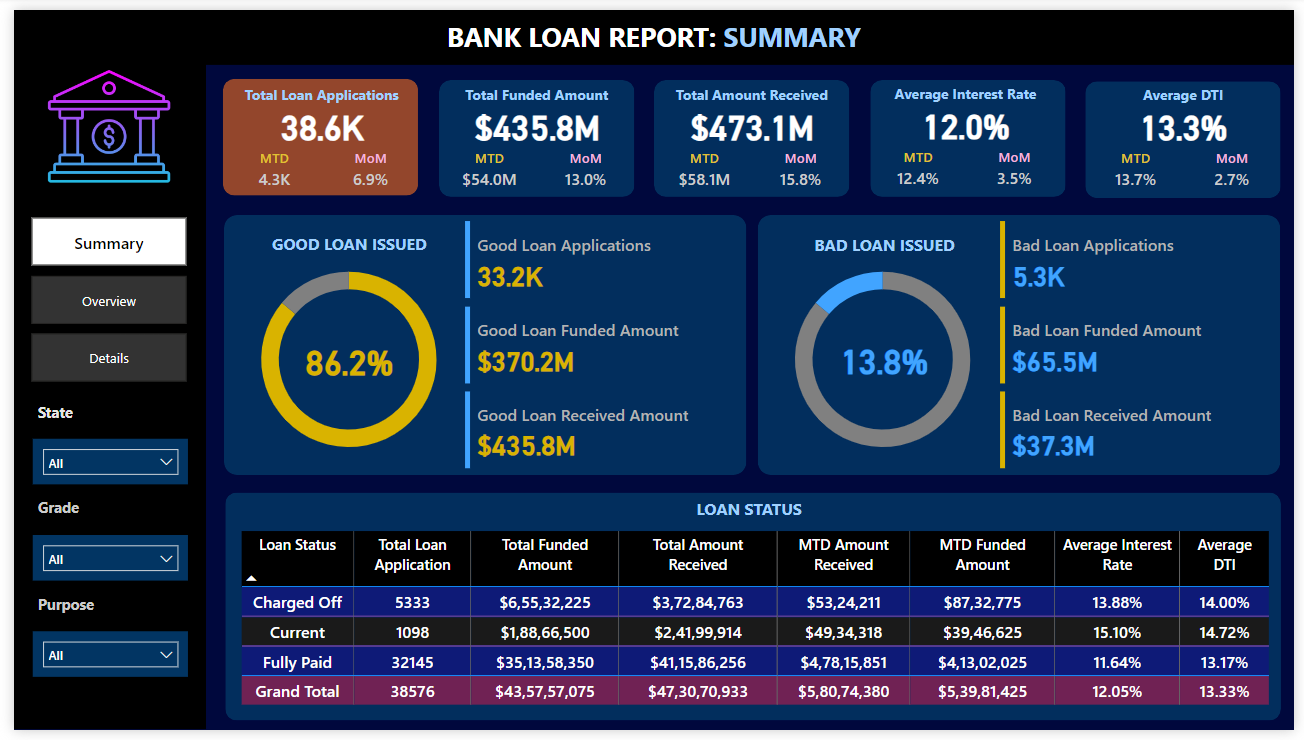

The page's visual inventory and layout, read from the dashboard file:
{"tool":"powerbi","page":{"name":"Summary","canvas":[1280,720],"ordinal":0},"visuals":[{"type":"shape","box":[0,54.2,192.2,665.4],"z":0},{"type":"shape","box":[640.1,70.1,195.6,117],"z":1000},{"type":"shape","box":[1071.3,71.1,195.6,117],"z":2000},{"type":"shape","box":[855.7,70.6,195.6,117],"z":3000},{"type":"shape","box":[424.5,69.7,195.6,117],"z":4000},{"type":"shape","box":[208.9,69.2,195.6,117],"z":5000},{"type":"shape","box":[0,0,1280.3,54.9],"z":6000},{"type":"textbox","box":[404.8,4.1,469.3,45.3],"z":7000},{"type":"shape","box":[209.5,204.5,522.5,260],"z":8000},{"type":"shape","box":[744.2,204.5,522.5,260],"z":9000},{"type":"group","id":"g1","title":"Group 1","box":[425.1,70.2,194.7,117.1],"z":10000},{"type":"group","id":"g2","title":"Group 1","box":[639.5,70.2,195.9,117.1],"z":11000},{"type":"group","id":"g3","title":"Group 1","box":[853.9,69,195.9,117.1],"z":12000},{"type":"group","id":"g4","title":"Group 1","box":[1070.8,70.2,195.9,117.1],"z":13000},{"type":"group","id":"g5","title":"Group 1","box":[209.5,70.2,194.7,117.1],"z":14000},{"type":"card","title":"Total Loan Applications","fields":{"Values":["financial_loan.avg_interest_rate"]},"box":[855.1,94.5,194.3,41.3],"z":15000,"group":"g3"},{"type":"card","title":"Total Loan Applications","fields":{"Values":["financial_loan.total_loan_application"]},"box":[210.7,95.7,194.3,41.3],"z":15000,"group":"g5"},{"type":"card","title":"Total Loan Applications","fields":{"Values":["financial_loan.total_funded_amount"]},"box":[426.3,95.7,194.3,41.3],"z":15000,"group":"g1"},{"type":"card","title":"Total Loan Applications","fields":{"Values":["financial_loan.total_amount_received"]},"box":[640.7,95.7,194.3,41.3],"z":15000,"group":"g2"},{"type":"card","title":"Total Loan Applications","fields":{"Values":["financial_loan.avg_dti"]},"box":[1072,95.7,194.3,41.3],"z":15000,"group":"g4"},{"type":"donutChart","fields":{"Category":["financial_loan.Good vs Bad Loan"],"Y":["financial_loan.total_loan_application"]},"box":[209.5,235.3,250.1,229.2],"z":15000},{"type":"card","title":"Total Loan Applications","fields":{"Values":["financial_loan.good_loan_percentage"]},"box":[279.7,330.2,110.9,40.7],"z":16000},{"type":"textbox","box":[237.8,218.1,195.9,33.3],"z":17000},{"type":"cardVisual","fields":{"Data":["financial_loan.good_loan_applications","financial_loan.good_loan_funded_amount","financial_loan.good_loan_received_amount"]},"box":[446.1,205.8,285.9,260],"z":18000},{"type":"textbox","box":[853.9,69,195.6,32.8],"z":19000,"group":"g3"},{"type":"textbox","box":[209.5,70.2,195.6,32.8],"z":19000,"group":"g5"},{"type":"textbox","box":[425.1,70.2,195.6,32.8],"z":19000,"group":"g1"},{"type":"textbox","box":[639.5,70.2,195.6,32.8],"z":19000,"group":"g2"},{"type":"textbox","box":[1070.8,70.2,195.6,32.8],"z":19000,"group":"g4"},{"type":"donutChart","fields":{"Category":["financial_loan.Good vs Bad Loan"],"Y":["financial_loan.total_loan_application"]},"box":[744.2,235.3,250.1,229.2],"z":19000},{"type":"textbox","box":[772.6,219.3,195.9,33.3],"z":20000},{"type":"card","title":"MTD","fields":{"Values":["financial_loan.mtd_avg_interest_rate"]},"box":[855.1,138.2,98.4,47.4],"z":21000,"group":"g3"},{"type":"card","title":"MTD","fields":{"Values":["financial_loan.mtd_loan_applications"]},"box":[210.7,139.4,98.4,47.4],"z":21000,"group":"g5"},{"type":"card","title":"MTD","fields":{"Values":["financial_loan.mtd_funded_amount"]},"box":[426.3,139.4,98.4,47.4],"z":21000,"group":"g1"},{"type":"card","title":"MTD","fields":{"Values":["financial_loan.mtd_amount_received"]},"box":[640.7,139.4,98.4,47.4],"z":21000,"group":"g2"},{"type":"card","title":"MTD","fields":{"Values":["financial_loan.mtd_avg_dti"]},"box":[1072,139.4,98.4,47.4],"z":21000,"group":"g4"},{"type":"card","title":"Total Loan Applications","fields":{"Values":["financial_loan.bad_loan_percentage"]},"box":[814.5,329,110.9,40.7],"z":21000},{"type":"shape","box":[211.1,482.6,1055.6,228],"z":22000},{"type":"card","title":"MoM","fields":{"Values":["financial_loan.mom_avg_interest_rate"]},"box":[951.1,138.2,98.4,47.4],"z":23000,"group":"g3"},{"type":"card","title":"MoM","fields":{"Values":["financial_loan.mom_loan_applications"]},"box":[306.7,139.4,98.4,47.4],"z":23000,"group":"g5"},{"type":"card","title":"MoM","fields":{"Values":["financial_loan.mom_funded_amount"]},"box":[522.3,139.4,98.4,47.4],"z":23000,"group":"g1"},{"type":"card","title":"MoM","fields":{"Values":["financial_loan.mom_amount_received"]},"box":[736.7,139.4,98.4,47.4],"z":23000,"group":"g2"},{"type":"card","title":"MoM","fields":{"Values":["financial_loan.mom_avg_dti"]},"box":[1168,139.4,98.4,47.4],"z":23000,"group":"g4"},{"type":"cardVisual","fields":{"Data":["financial_loan.Bad Loan Applications","financial_loan.Bad Loan Funded Amount","financial_loan.Badd Loan Received Amount"]},"box":[980.8,205.8,285.9,260],"z":23000},{"type":"tableEx","fields":{"Values":["financial_loan.loan_status","financial_loan.total_loan_application","financial_loan.total_funded_amount","financial_loan.total_amount_received","financial_loan.mtd_amount_received","financial_loan.mtd_funded_amount","financial_loan.avg_interest_rate","financial_loan.avg_dti"]},"box":[220.8,516.4,1047.2,188.2],"z":24000},{"type":"textbox","box":[678,482.6,124.3,33.8],"z":25000},{"type":"slicer","fields":{"Values":["financial_loan.address_state"]},"box":[18.5,428.8,155.3,45.6],"z":26000},{"type":"textbox","box":[18.5,386.9,61.6,33.3],"z":27000},{"type":"slicer","fields":{"Values":["financial_loan.grade"]},"box":[18.5,524.9,155.3,45.6],"z":28000},{"type":"slicer","fields":{"Values":["financial_loan.purpose"]},"box":[18.5,621,155.3,45.6],"z":29000},{"type":"textbox","box":[18.5,579.1,77.6,33.3],"z":30000},{"type":"textbox","box":[18.5,483,61.6,33.3],"z":31000},{"type":"image","box":[18.1,27.7,155.6,177.3],"z":32000},{"type":"pageNavigator","box":[18.1,207.5,155.6,164.1],"z":33000}]}

Visuals, with their boxes in screenshot pixels (x1, y1, x2, y2), scaled from the page's 1280x720 canvas onto the 1304x740 screenshot:
shape: 0 56 196 739
shape: 652 72 851 192
shape: 1091 73 1291 193
shape: 872 73 1071 193
shape: 432 72 632 192
shape: 213 71 412 191
shape: 0 0 1303 56
textbox: 412 4 890 51
shape: 213 210 746 477
shape: 758 210 1290 477
"Group 1" group: 433 72 631 193
"Group 1" group: 651 72 851 193
"Group 1" group: 870 71 1069 191
"Group 1" group: 1091 72 1290 193
"Group 1" group: 213 72 412 193
"Total Loan Applications" card: 871 97 1069 140
"Total Loan Applications" card: 215 98 413 141
"Total Loan Applications" card: 434 98 632 141
"Total Loan Applications" card: 653 98 851 141
"Total Loan Applications" card: 1092 98 1290 141
donutChart - financial_loan.Good vs Bad Loan x financial_loan.total_loan_application: 213 242 468 477
"Total Loan Applications" card: 285 339 398 381
textbox: 242 224 442 258
cardVisual - financial_loan.good_loan_applications x financial_loan.good_loan_funded_amount: 454 212 746 479
textbox: 870 71 1069 105
textbox: 213 72 413 106
textbox: 433 72 632 106
textbox: 651 72 851 106
textbox: 1091 72 1290 106
donutChart - financial_loan.Good vs Bad Loan x financial_loan.total_loan_application: 758 242 1013 477
textbox: 787 225 987 260
"MTD" card: 871 142 971 191
"MTD" card: 215 143 315 192
"MTD" card: 434 143 535 192
"MTD" card: 653 143 753 192
"MTD" card: 1092 143 1192 192
"Total Loan Applications" card: 830 338 943 380
shape: 215 496 1290 730
"MoM" card: 969 142 1069 191
"MoM" card: 312 143 413 192
"MoM" card: 532 143 632 192
"MoM" card: 751 143 851 192
"MoM" card: 1190 143 1290 192
cardVisual - financial_loan.Bad Loan Applications x financial_loan.Bad Loan Funded Amount: 999 212 1290 479
tableEx - financial_loan.loan_status x financial_loan.total_loan_application: 225 531 1292 724
textbox: 691 496 817 531
slicer - financial_loan.address_state: 19 441 177 488
textbox: 19 398 82 432
slicer - financial_loan.grade: 19 539 177 586
slicer - financial_loan.purpose: 19 638 177 685
textbox: 19 595 98 629
textbox: 19 496 82 531
image: 18 28 177 211
pageNavigator: 18 213 177 382
